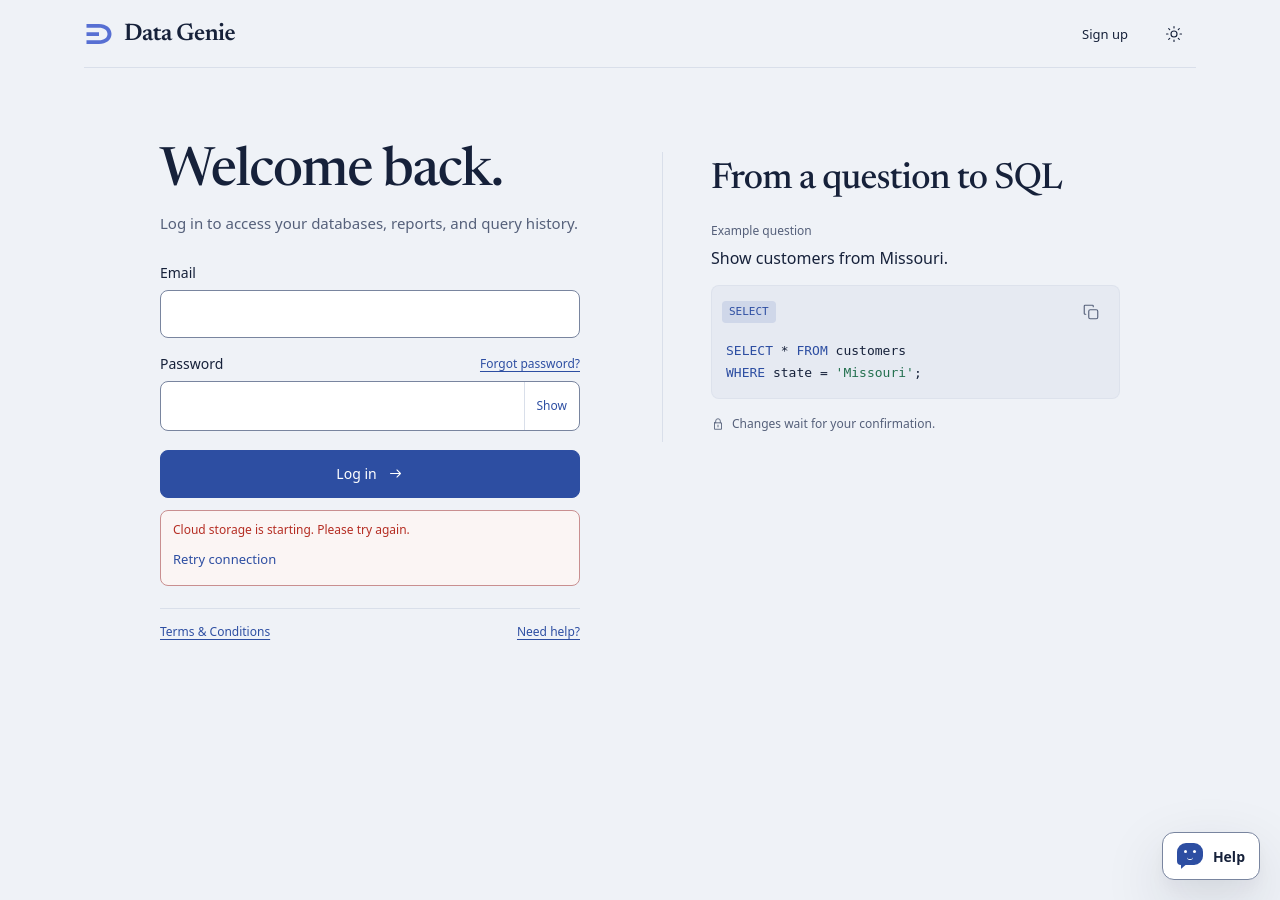
Scenario: React pages and account flow › retries an initial connection error on /signin with only a GET and preserves form drafts
Later steps or results of the test are not shown.
Expected: the text "Cloud storage is starting. Please try again." is shown, top-left (173, 521), bottom-right (410, 538)
Type "reader@example.test" into the field labelled "Email" at (370, 314), box top-left (160, 290), bottom-right (580, 338)
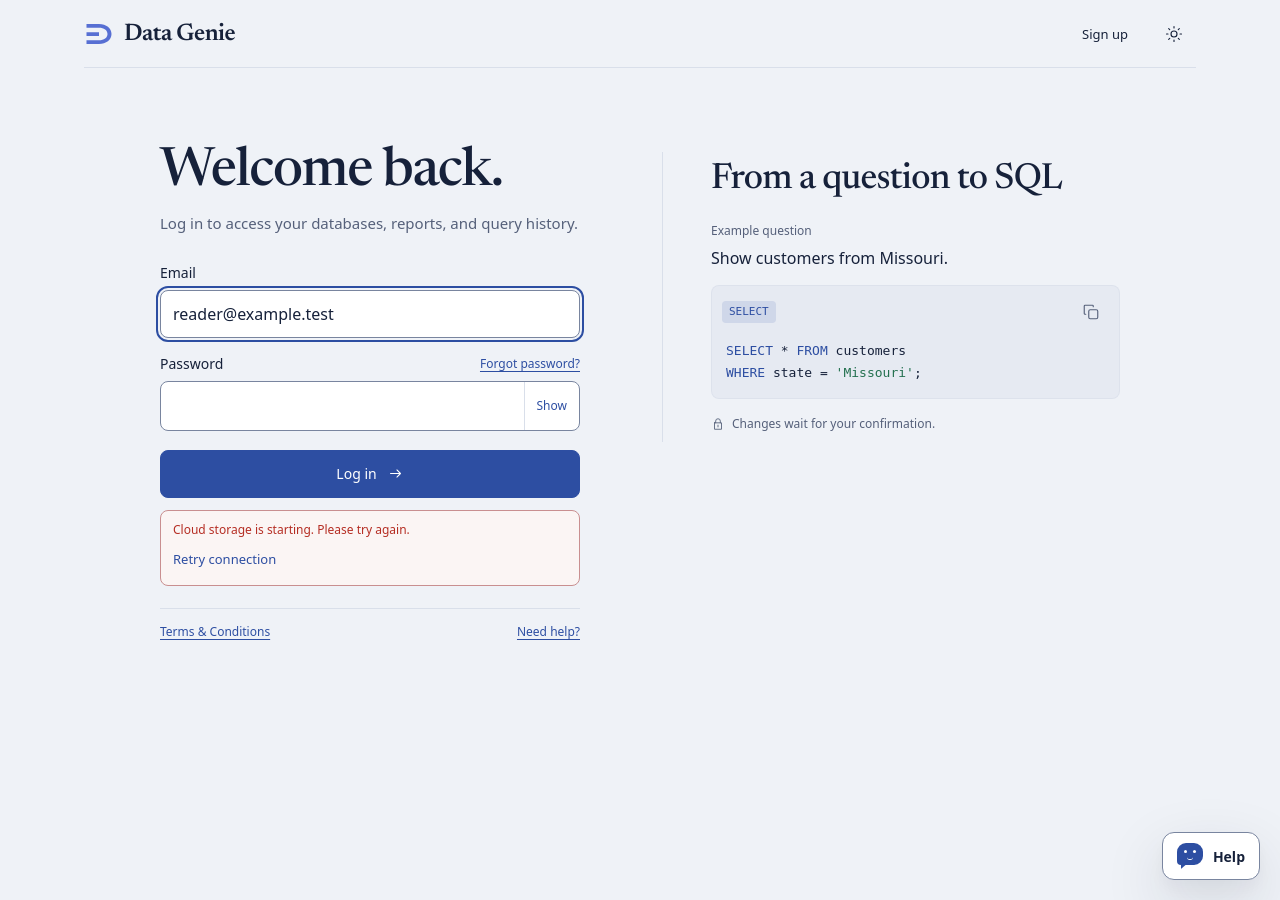
Type "a long test passphrase" into the password field labelled "Password" at (342, 406), box top-left (161, 382), bottom-right (524, 430)
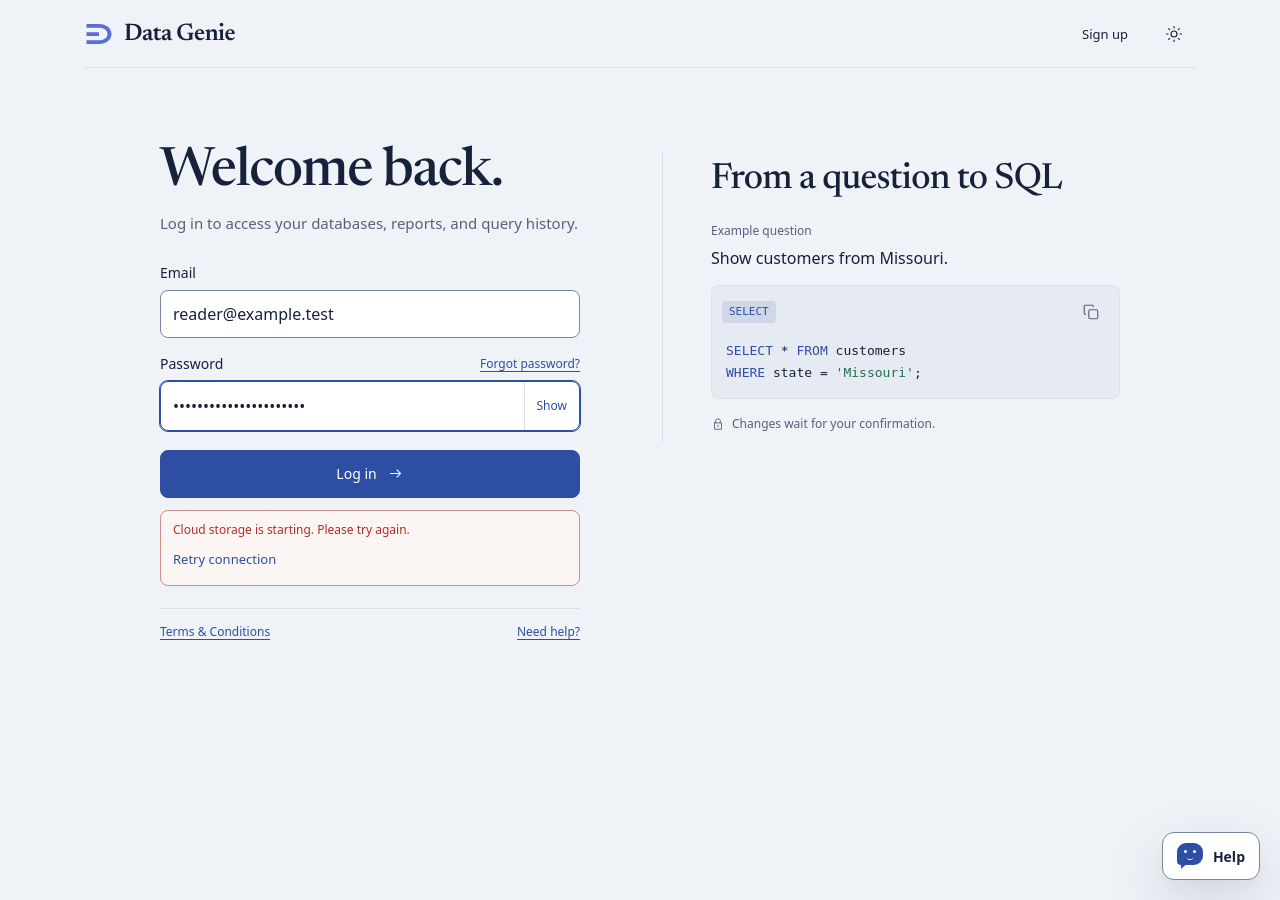
Click the button "Retry connection" at (225, 557), box top-left (173, 539), bottom-right (276, 575)
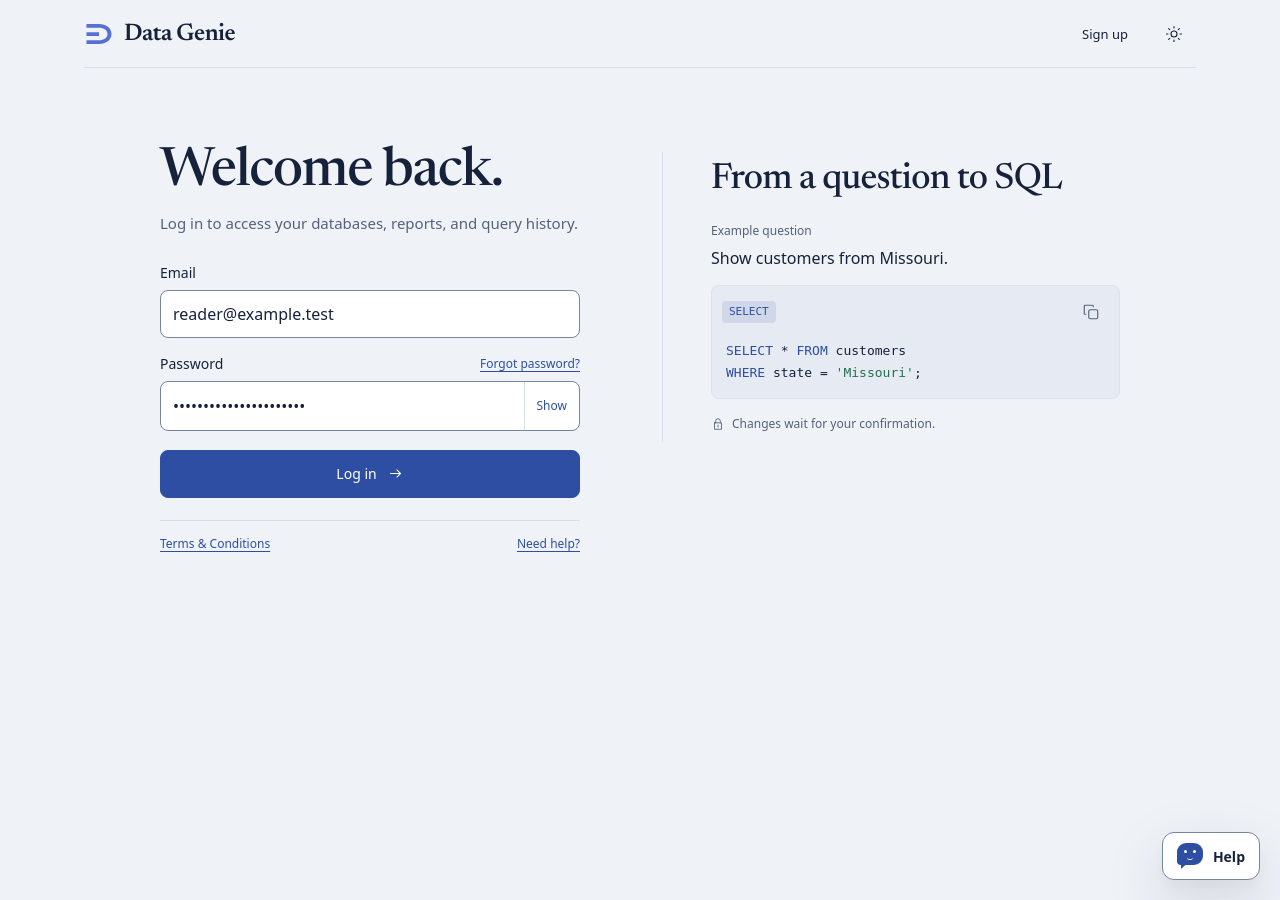
Expected: the text "Cloud storage is starting. Please try again." is gone
Expected: the button "Retry connection" is gone
